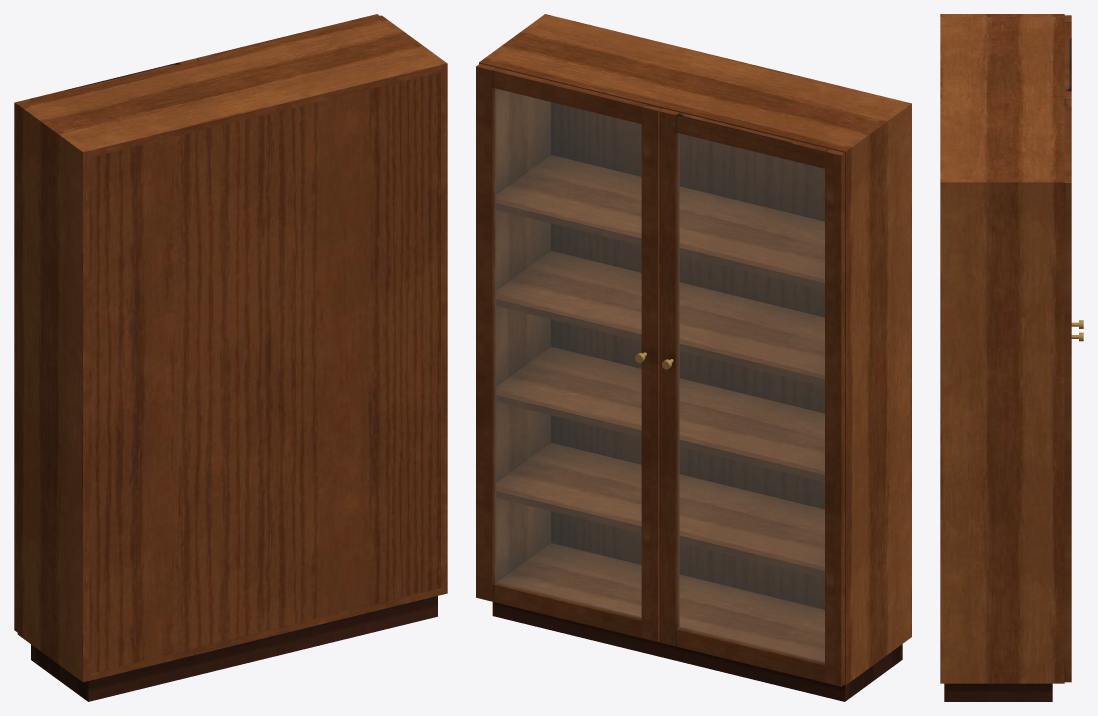
File: bookcase_glass_doors_web.glb
3 renders of one model, left to right at view 1: azimuth 30°, elevation 25°; view 2: azimuth 150°, elevation 25°; view 3: azimuth 270°, elevation 25°, orthographic. The views are drawn at different scales.
Visible parts, largest first — view 1: BookcaseGlassDoors_Body, Door_1_R_Mesh; view 2: BookcaseGlassDoors_Body, Glass_Door_1_R, Glass_Door_1_L, Door_1_R_Mesh, Door_1_L_Mesh; view 3: BookcaseGlassDoors_Body, Door_1_L_Mesh, Door_1_R_Mesh.
Boxes of the visible parts, x1,y1,x2,y2 form: BookcaseGlassDoors_Body: (17,15,447,701); Door_1_R_Mesh: (14,58,197,632); BookcaseGlassDoors_Body: (479,14,911,701); Glass_Door_1_R: (678,133,824,662); Glass_Door_1_L: (495,88,641,618); Door_1_R_Mesh: (659,108,844,686); Door_1_L_Mesh: (476,64,661,641); BookcaseGlassDoors_Body: (940,14,1064,701); Door_1_L_Mesh: (1064,99,1071,682); Door_1_R_Mesh: (1064,15,1071,99).
Bounding box in the file's own units: 1 × 1.45 × 0.3599.
Materials: 3 (2 with a texture image).
